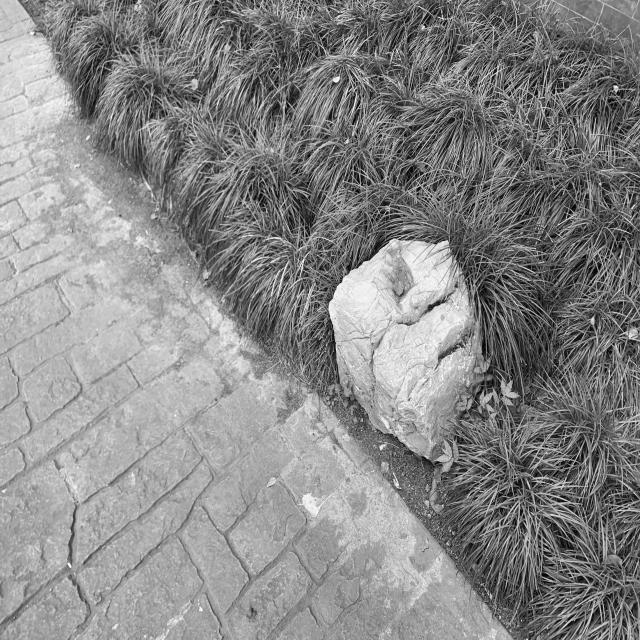Stone: (330, 240, 481, 459)
